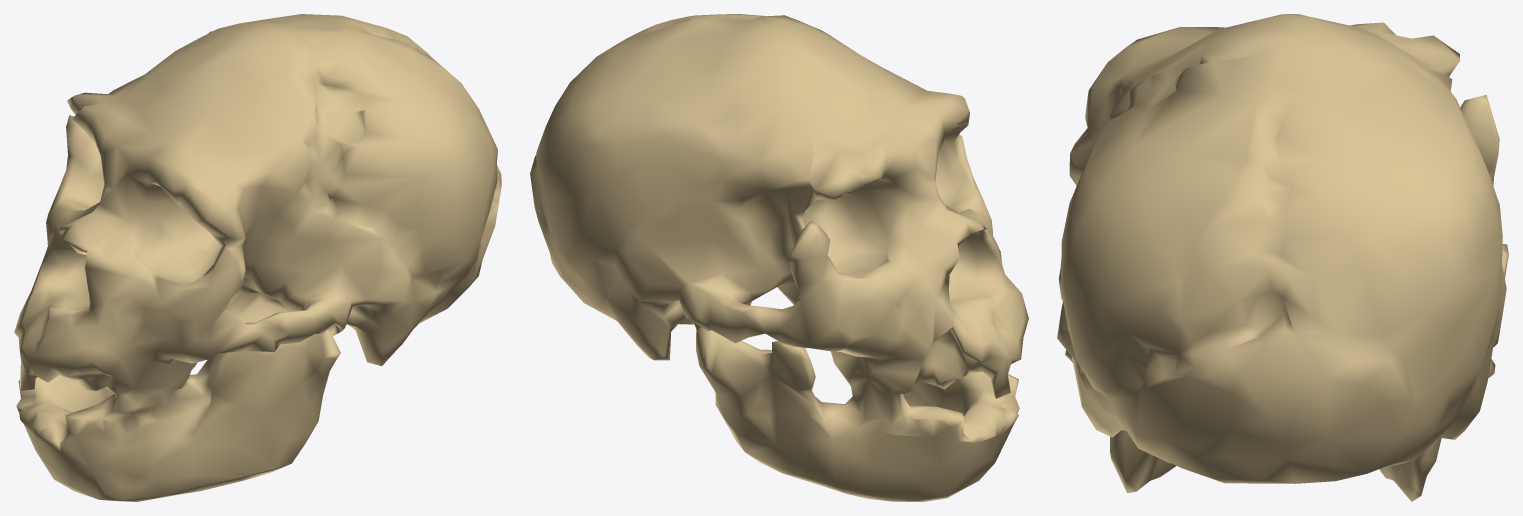
The model's file is atapuerca.glb.
The picture shows the model from 3 angles, left to right: view 1: azimuth 30°, elevation 25°; view 2: azimuth 150°, elevation 25°; view 3: azimuth 270°, elevation 25°; orthographic projection. The views are drawn at different scales.
Bounding box in the file's own units: 0.206 × 0.1756 × 0.1361.
